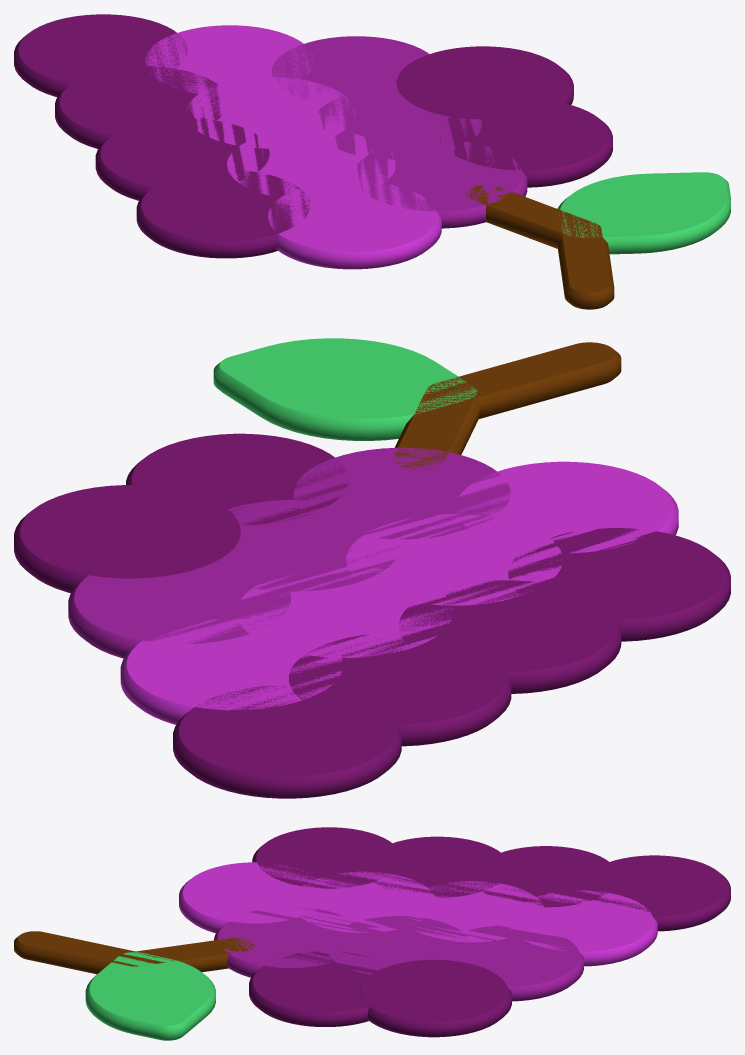
The model's file is uvas.glb.
The picture shows the model from 3 angles, top to bottom: view 1: azimuth 30°, elevation 25°; view 2: azimuth 150°, elevation 25°; view 3: azimuth 270°, elevation 25°; orthographic projection. The views are drawn at different scales.
Parts seen in each view (by area): view 1: Curve.006, Curve.026, Curve, Curve.020, Curve.008, Curve.014, Curve.002, Curve.018, Curve.010, Curve.016, Curve.004, Curve.001 (+3 smaller); view 2: Curve, Curve.008, Curve.020, Curve.018, Curve.026, Curve.014, Curve.010, Curve.006, Curve.004, Curve.012, Curve.024, Curve.001 (+3 smaller); view 3: Curve.020, Curve, Curve.008, Curve.026, Curve.002, Curve.006, Curve.010, Curve.012, Curve.018, Curve.014, Curve.024, Curve.004 (+3 smaller).
Boxes of the visible parts, <box> form: Curve.006: <box>268,180,441,269</box>; Curve.026: <box>136,170,309,258</box>; Curve: <box>557,172,730,254</box>; Curve.020: <box>396,46,573,119</box>; Curve.008: <box>14,14,187,96</box>; Curve.014: <box>55,66,221,148</box>; Curve.002: <box>440,102,612,187</box>; Curve.018: <box>95,118,269,200</box>; Curve.010: <box>145,25,313,96</box>; Curve.016: <box>186,77,355,148</box>; Curve.004: <box>353,140,527,228</box>; Curve.001: <box>466,185,614,309</box>; Curve: <box>213,338,477,440</box>; Curve.008: <box>173,685,401,798</box>; Curve.020: <box>14,485,240,593</box>; Curve.018: <box>398,580,621,693</box>; Curve.026: <box>508,528,730,641</box>; Curve.014: <box>289,634,511,746</box>; Curve.010: <box>120,618,342,724</box>; Curve.006: <box>456,461,678,553</box>; Curve.004: <box>294,447,510,539</box>; Curve.012: <box>68,566,290,658</box>; Curve.024: <box>346,514,562,605</box>; Curve.001: <box>393,342,621,469</box>; Curve.020: <box>360,959,511,1037</box>; Curve: <box>85,952,215,1040</box>; Curve.008: <box>582,855,730,931</box>; Curve.026: <box>252,827,401,888</box>; Curve.002: <box>249,951,381,1026</box>; Curve.006: <box>179,862,324,933</box>; Curve.010: <box>508,890,657,966</box>; Curve.012: <box>435,925,583,1001</box>; Curve.018: <box>365,836,509,897</box>; Curve.014: <box>473,846,618,907</box>; Curve.024: <box>291,871,436,932</box>; Curve.004: <box>214,906,362,977</box>.
Bounding box in the file's own units: 5.48 × 0.1902 × 8.22.
